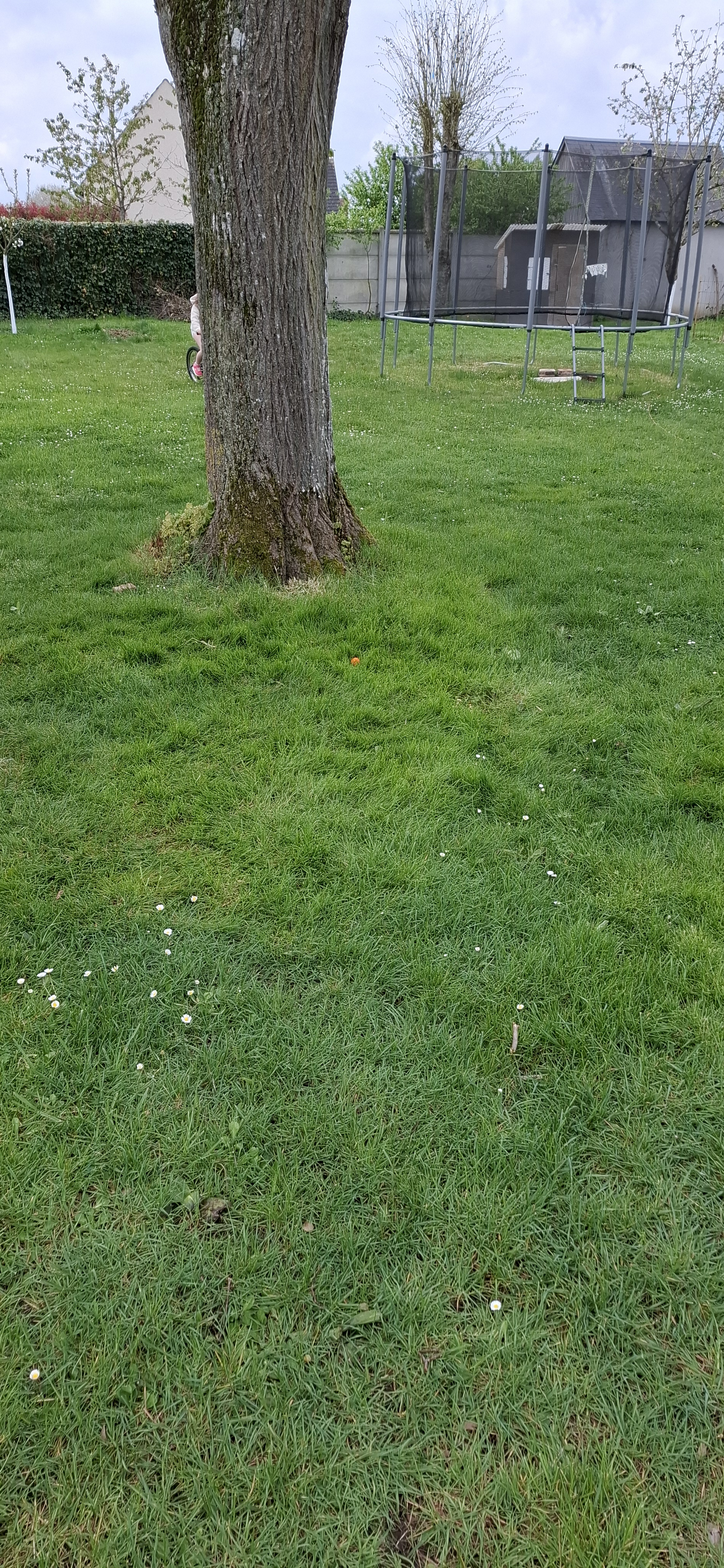ball: (304, 789, 308, 808)
